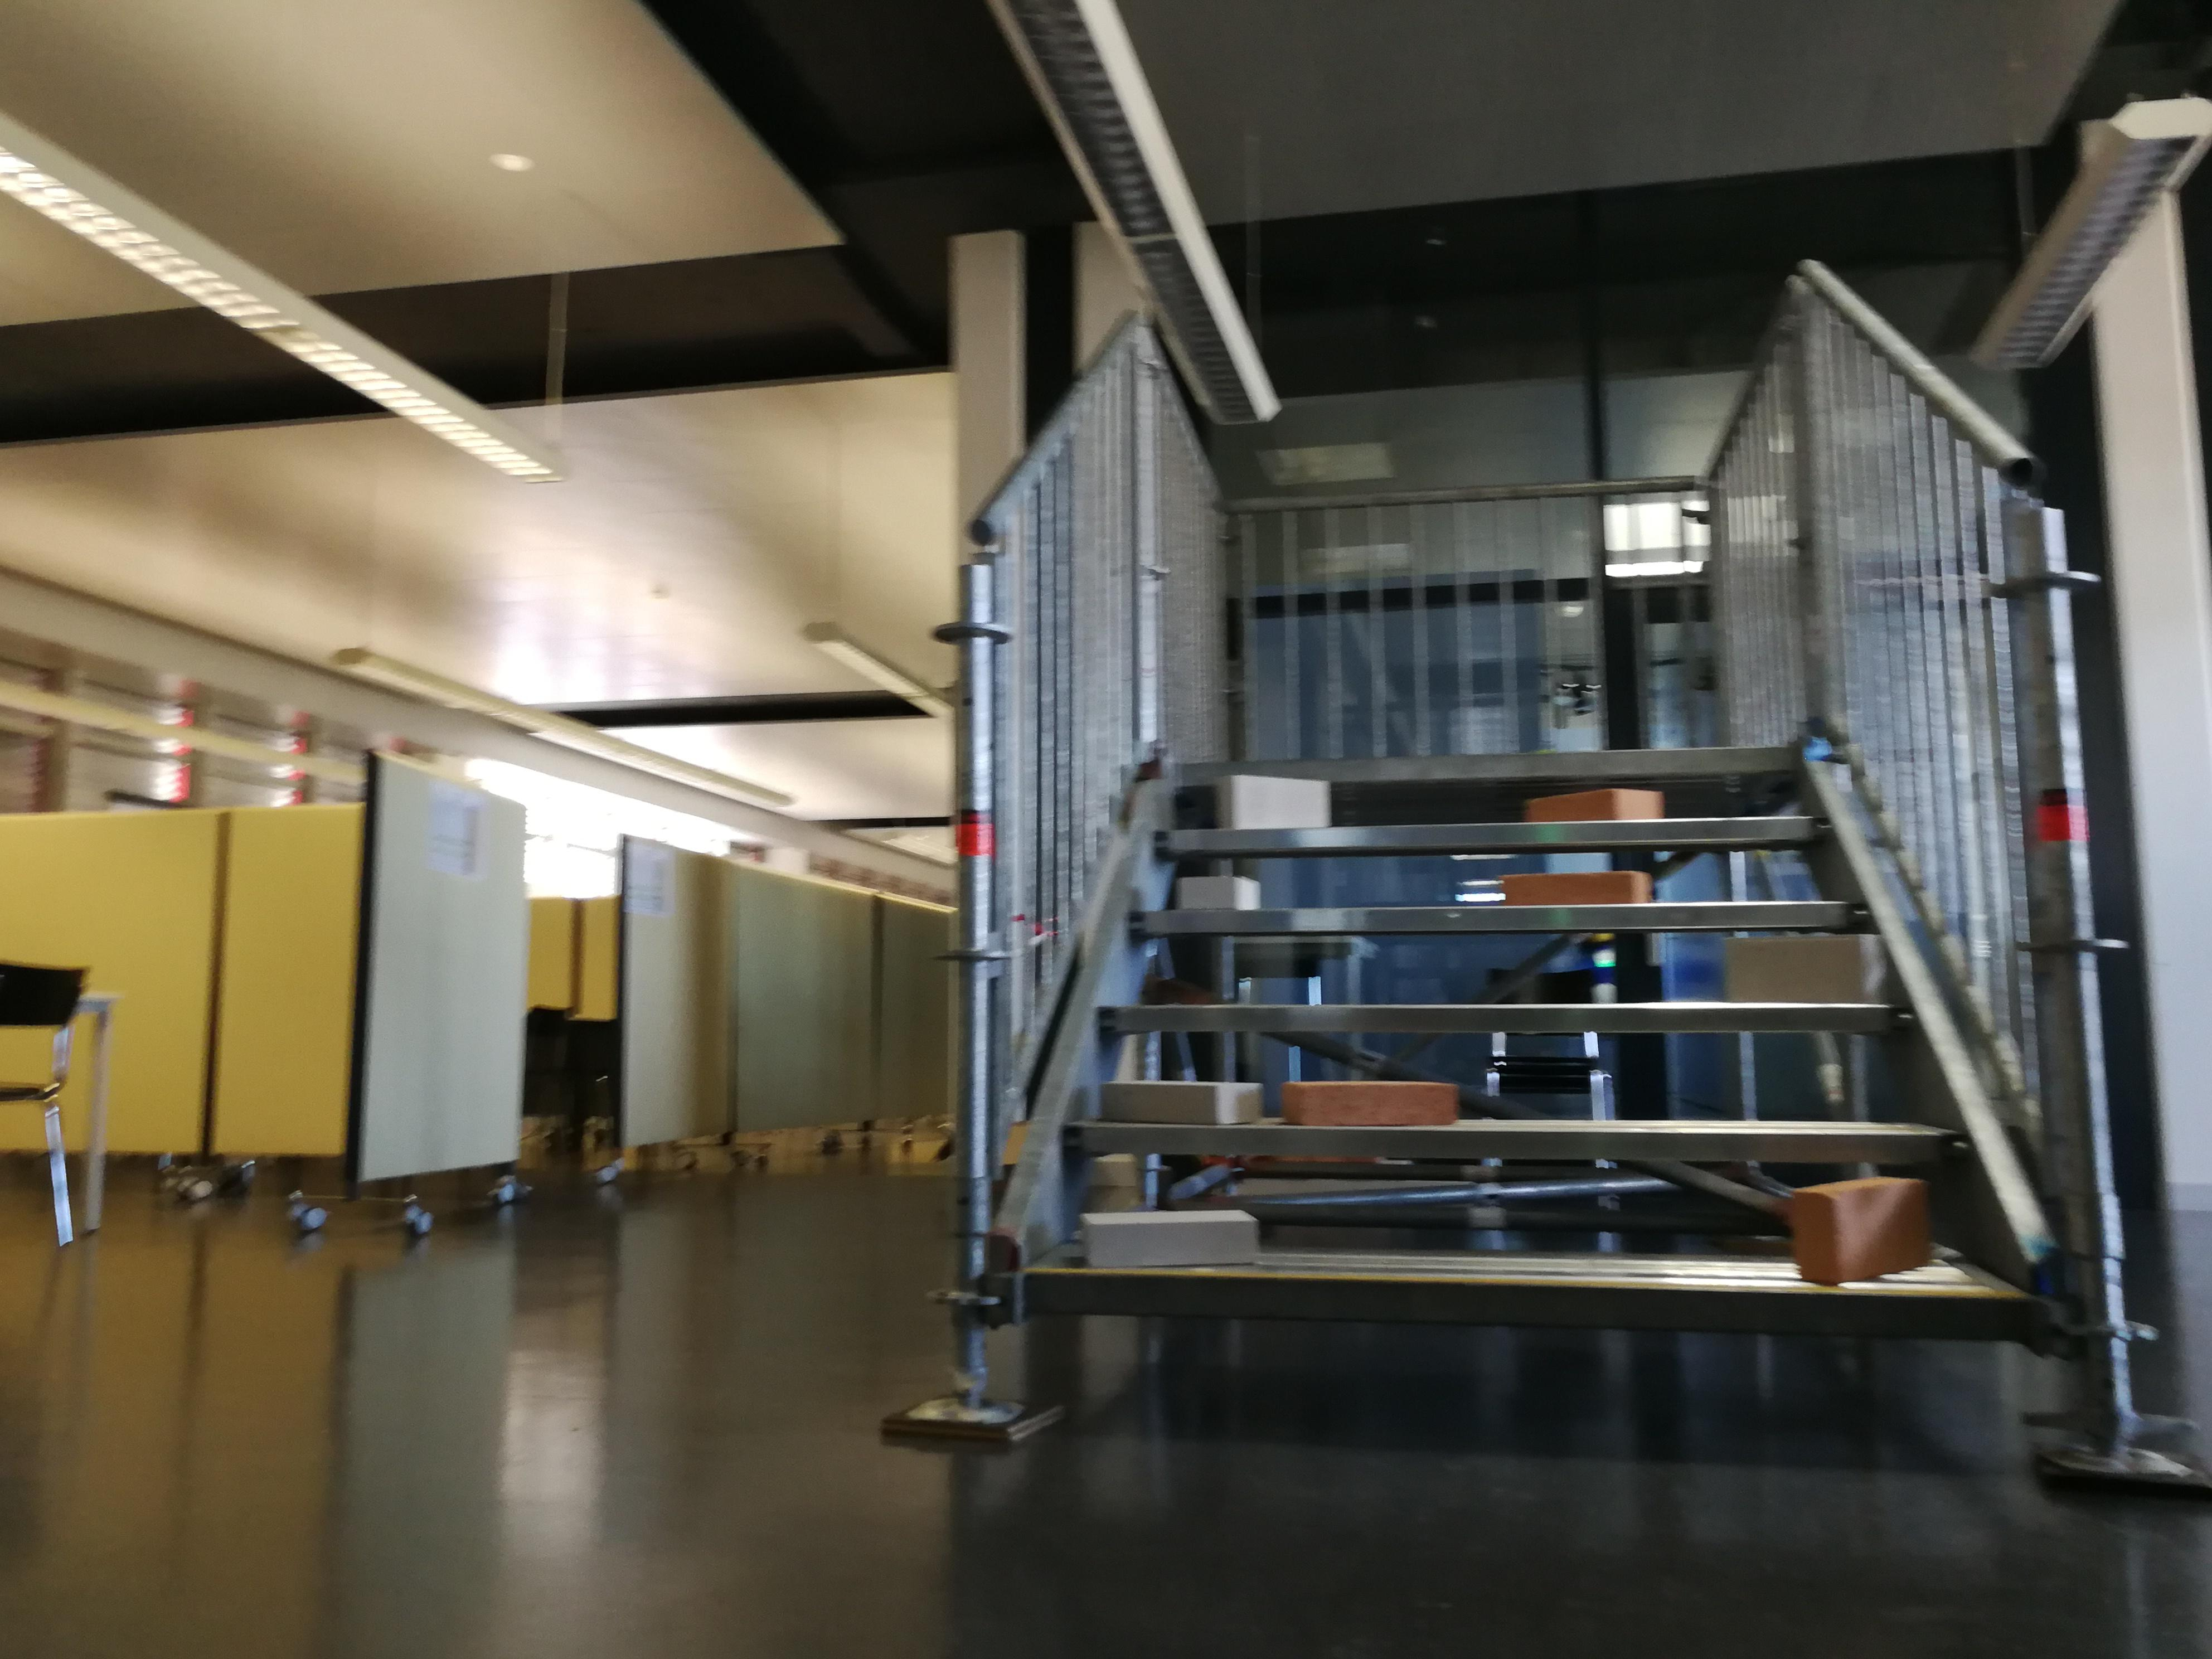brick: (1796, 1180, 1925, 1281), (1726, 934, 1883, 1002), (1080, 1213, 1256, 1269), (1284, 1080, 1454, 1129), (1216, 772, 1327, 828), (1104, 1082, 1259, 1122), (1501, 875, 1646, 906), (1527, 788, 1660, 819), (1176, 878, 1254, 908)
edge: (1019, 1267, 2027, 1340), (1066, 1119, 1966, 1169), (1099, 1002, 1914, 1033), (1177, 744, 1799, 782), (1153, 814, 1832, 847), (1127, 906, 1865, 927)
stairs: (881, 258, 2212, 1514)
steps: (1000, 737, 2041, 1356)
